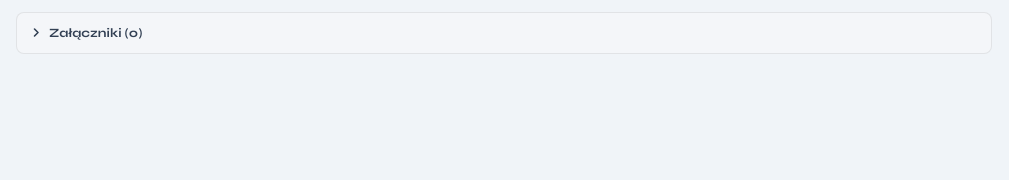
AttachmentsSection › shows empty state and load errors
The image size is (1009, 180).
Click the button with class "att-head": (89, 32) [17,13,991,53]
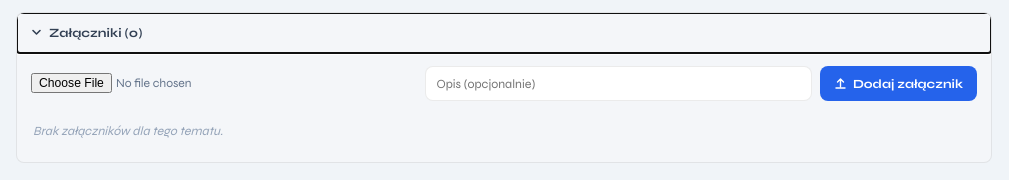
Check: the text "Brak załączników dla tego tematu." is shown, box [33,123,223,138]
